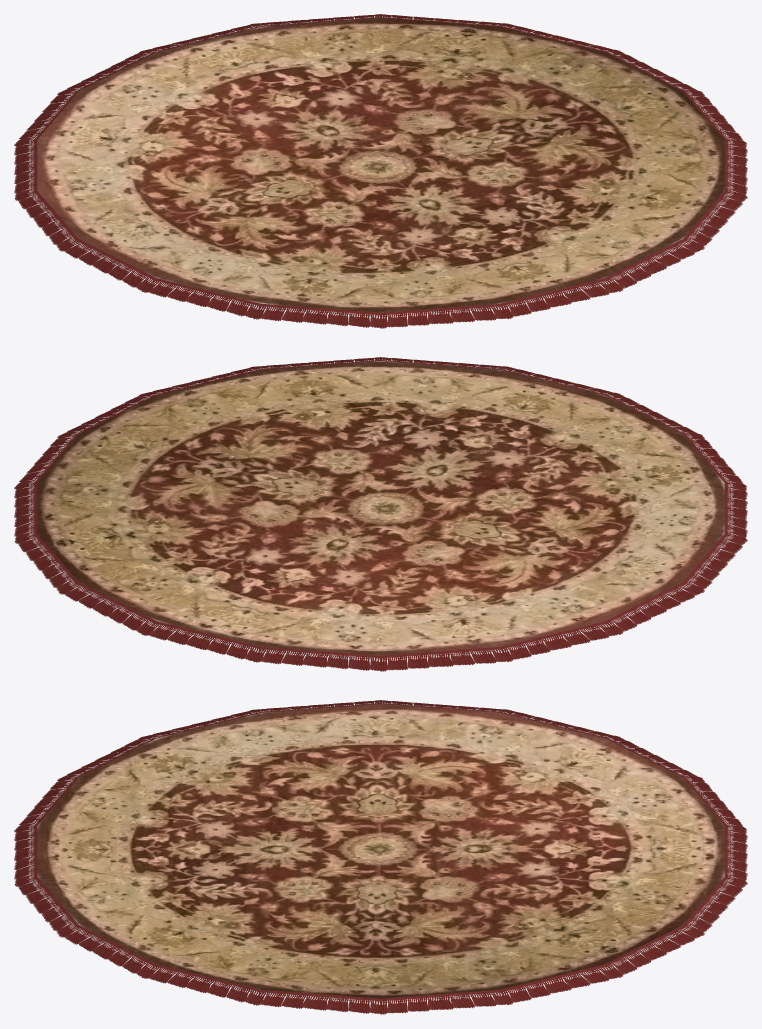
Rendered from Carpet2.FBX.
3 views of the same model, one above another, from view 1: azimuth 30°, elevation 25°; view 2: azimuth 150°, elevation 25°; view 3: azimuth 270°, elevation 25° (orthographic).
Visible parts, largest first — view 1: Cylinder01; view 2: Cylinder01; view 3: Cylinder01.
Part boxes in pixels (x1,y1,x2,y2): Cylinder01: (14, 14, 747, 328); Cylinder01: (14, 357, 747, 671); Cylinder01: (14, 700, 747, 1014).
Size of the model in its own units: 38.11 by 0.3503 by 37.53.
Materials: 1 (1 with a texture image).
